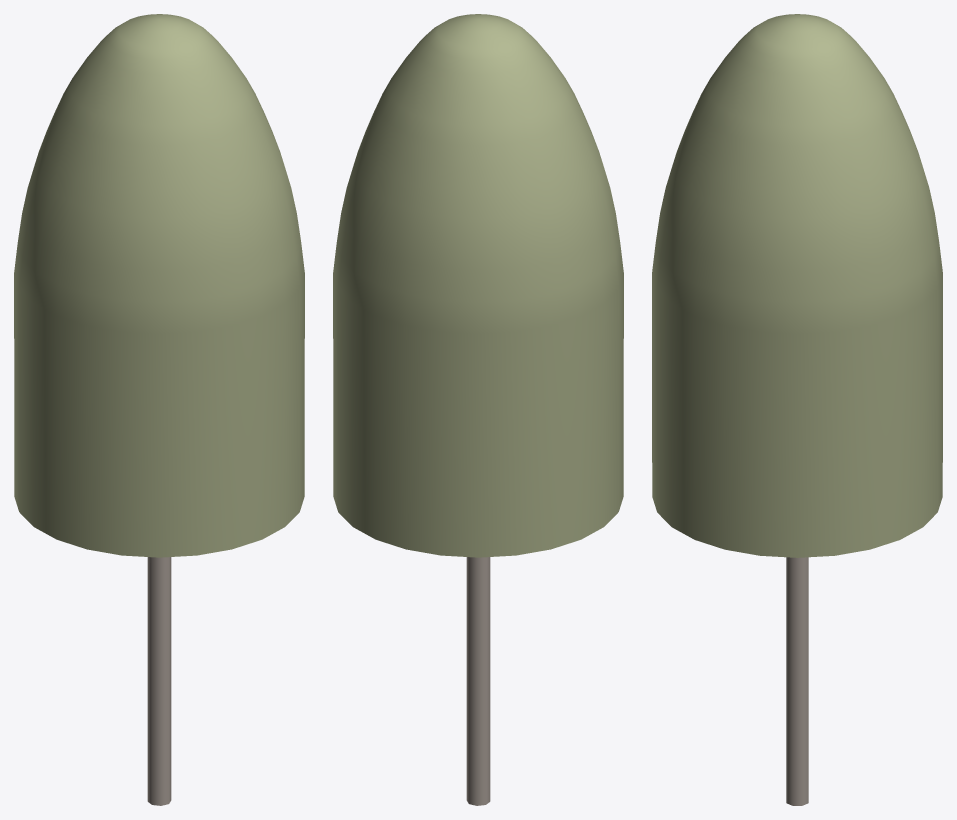
Rendered from PinusSylvestris.glb.
The picture shows the model from 3 angles, left to right: view 1: azimuth 30°, elevation 25°; view 2: azimuth 150°, elevation 25°; view 3: azimuth 270°, elevation 25°; orthographic projection.
Visible parts, largest first — view 1: Scots_Pine__Schematic_LOD3; view 2: Scots_Pine__Schematic_LOD3; view 3: Scots_Pine__Schematic_LOD3.
Boxes of the visible parts, left/top/right/bottom form: Scots_Pine__Schematic_LOD3: left=14, top=14, right=304, bottom=805; Scots_Pine__Schematic_LOD3: left=333, top=14, right=623, bottom=805; Scots_Pine__Schematic_LOD3: left=652, top=14, right=942, bottom=805.
Bounding box in the file's own units: 9.16 × 27.15 × 9.16.
